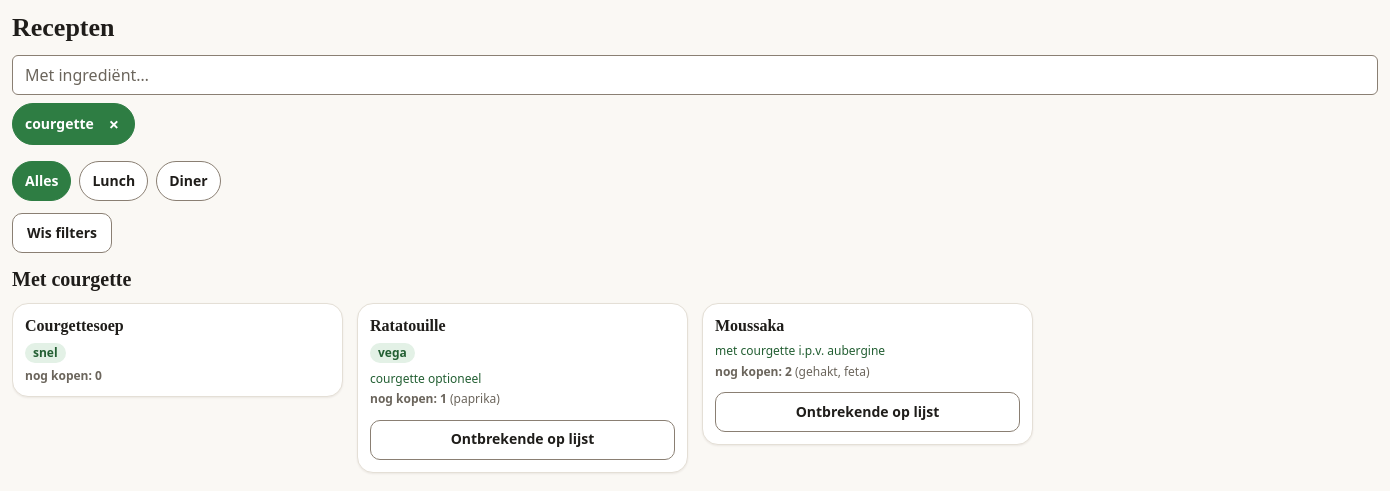
Test: Met ingrediënt… op het receptenoverzicht › "Ontbrekende op lijst" zet alleen de ontbrekende regels op de lijst
Click the button with class "add-missing" below "nog kopen: 2": (868, 412) [715,392,1020,432]
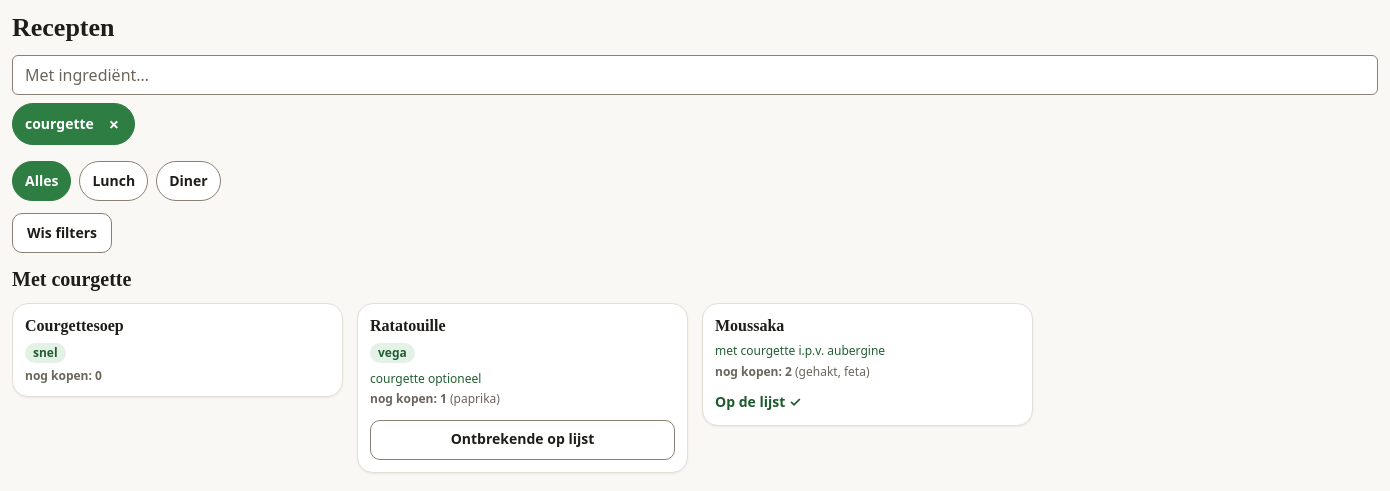
Expected: the element with class "recipe-card" shows "Op de lijst ✓", [715,392,801,411]
